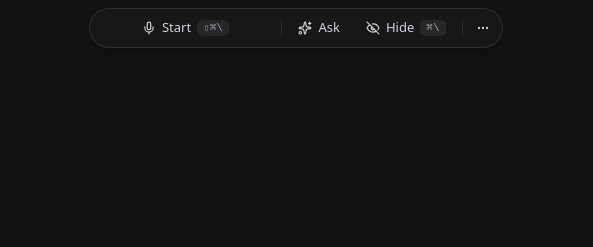
Test case: HUDContainer › a partial start goes live and shows its warning
Click the button with aria-label "Start listening". click: (186, 28)
box: [94, 12, 278, 44]
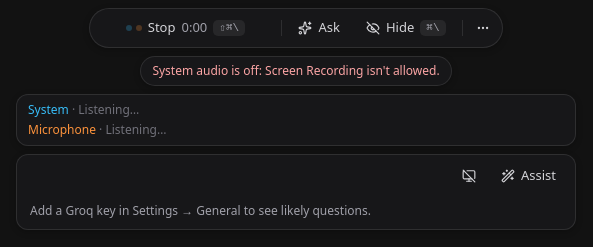
Expected: the message reads "System audio is off: Screen Recording isn't allowed.", [152, 62, 440, 79]
Expected: the button with aria-label "Stop listening" is shown, [94, 12, 278, 44]
